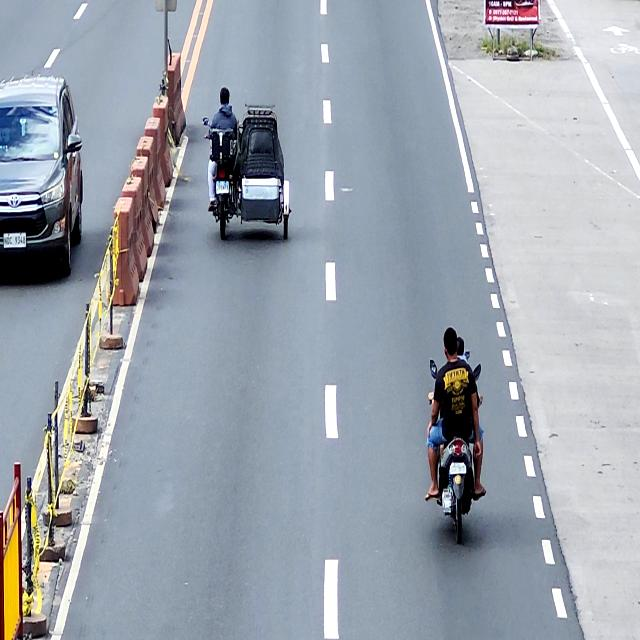Car: (0, 73, 83, 277)
License-Plate: (2, 230, 26, 249), (450, 457, 469, 478), (215, 179, 231, 197)
Motorcycle: (428, 357, 483, 544)
Tricycle: (205, 104, 293, 246)
